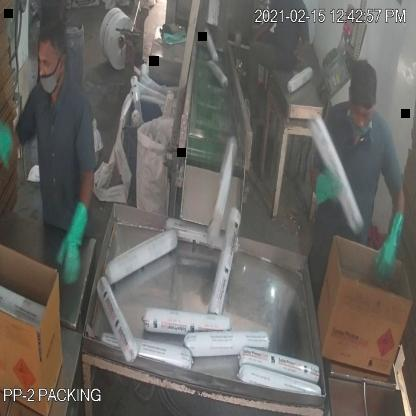glove: (50, 182, 93, 286), (367, 203, 410, 283)
no_glove: (245, 23, 276, 48)
